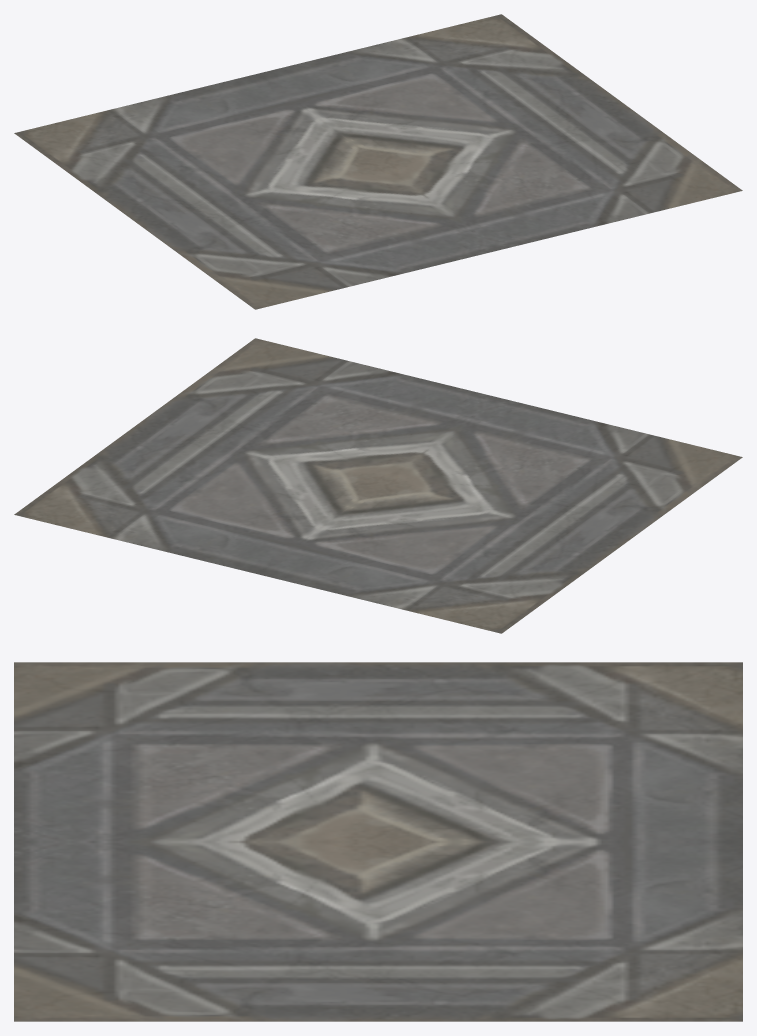
File: unity_dungeon_tile01.FBX
3 renders of one model, top to bottom at view 1: azimuth 30°, elevation 25°; view 2: azimuth 150°, elevation 25°; view 3: azimuth 270°, elevation 25°, orthographic. The views are drawn at different scales.
Parts seen in each view (by area): view 1: unity_dungeon_tile01; view 2: unity_dungeon_tile01; view 3: unity_dungeon_tile01.
Boxes of the visible parts, x1,y1,x2,y2 form: unity_dungeon_tile01: [14, 14, 742, 309]; unity_dungeon_tile01: [14, 338, 742, 633]; unity_dungeon_tile01: [14, 662, 742, 1021].
Size of the model in its own units: 4.57 by 1.71e-07 by 3.92.
